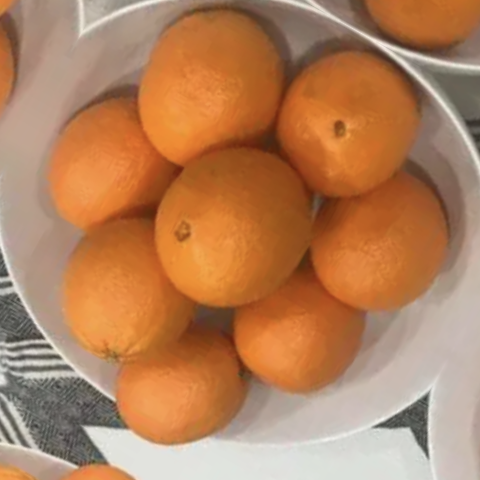orange: (119, 116, 343, 342), (0, 69, 219, 286), (242, 23, 452, 242), (105, 0, 320, 207), (280, 144, 480, 352), (84, 300, 270, 480)
